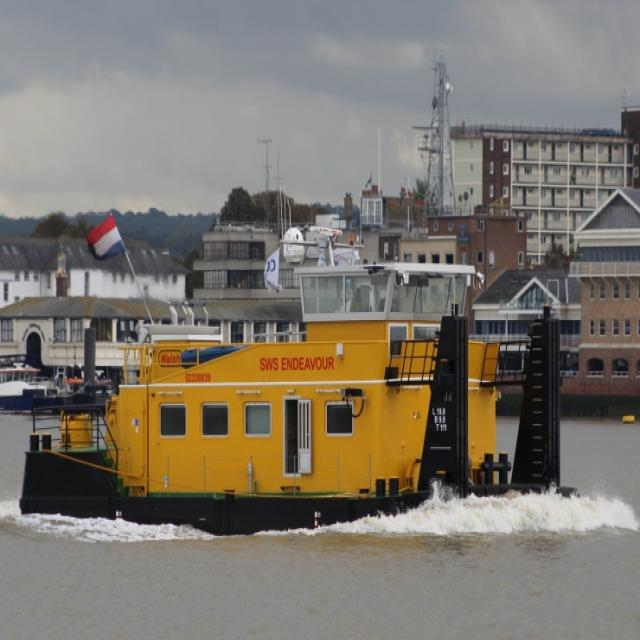tugboat: (17, 184, 584, 554)
